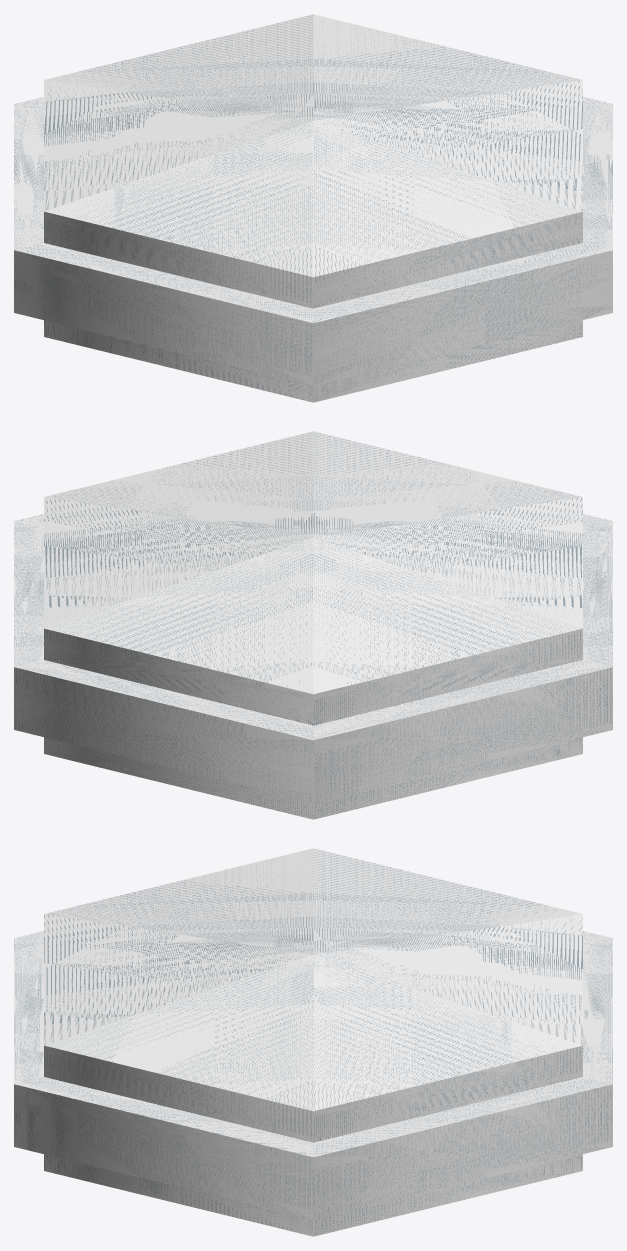
The model's file is hexagon2.dae.
The picture shows the model from 3 angles, top to bottom: view 1: azimuth 30°, elevation 25°; view 2: azimuth 150°, elevation 25°; view 3: azimuth 270°, elevation 25°; orthographic projection.
Visible parts, largest first — view 1: SketchUp (×2); view 2: SketchUp (×2); view 3: SketchUp (×2).
Part boxes in pixels (x1,y1,x2,y2): SketchUp (×2): (14,14,612,402); SketchUp (×2): (14,431,612,819); SketchUp (×2): (14,848,612,1236).
Bounding box in the file's own units: 39.37 × 34.1 × 11.42.
